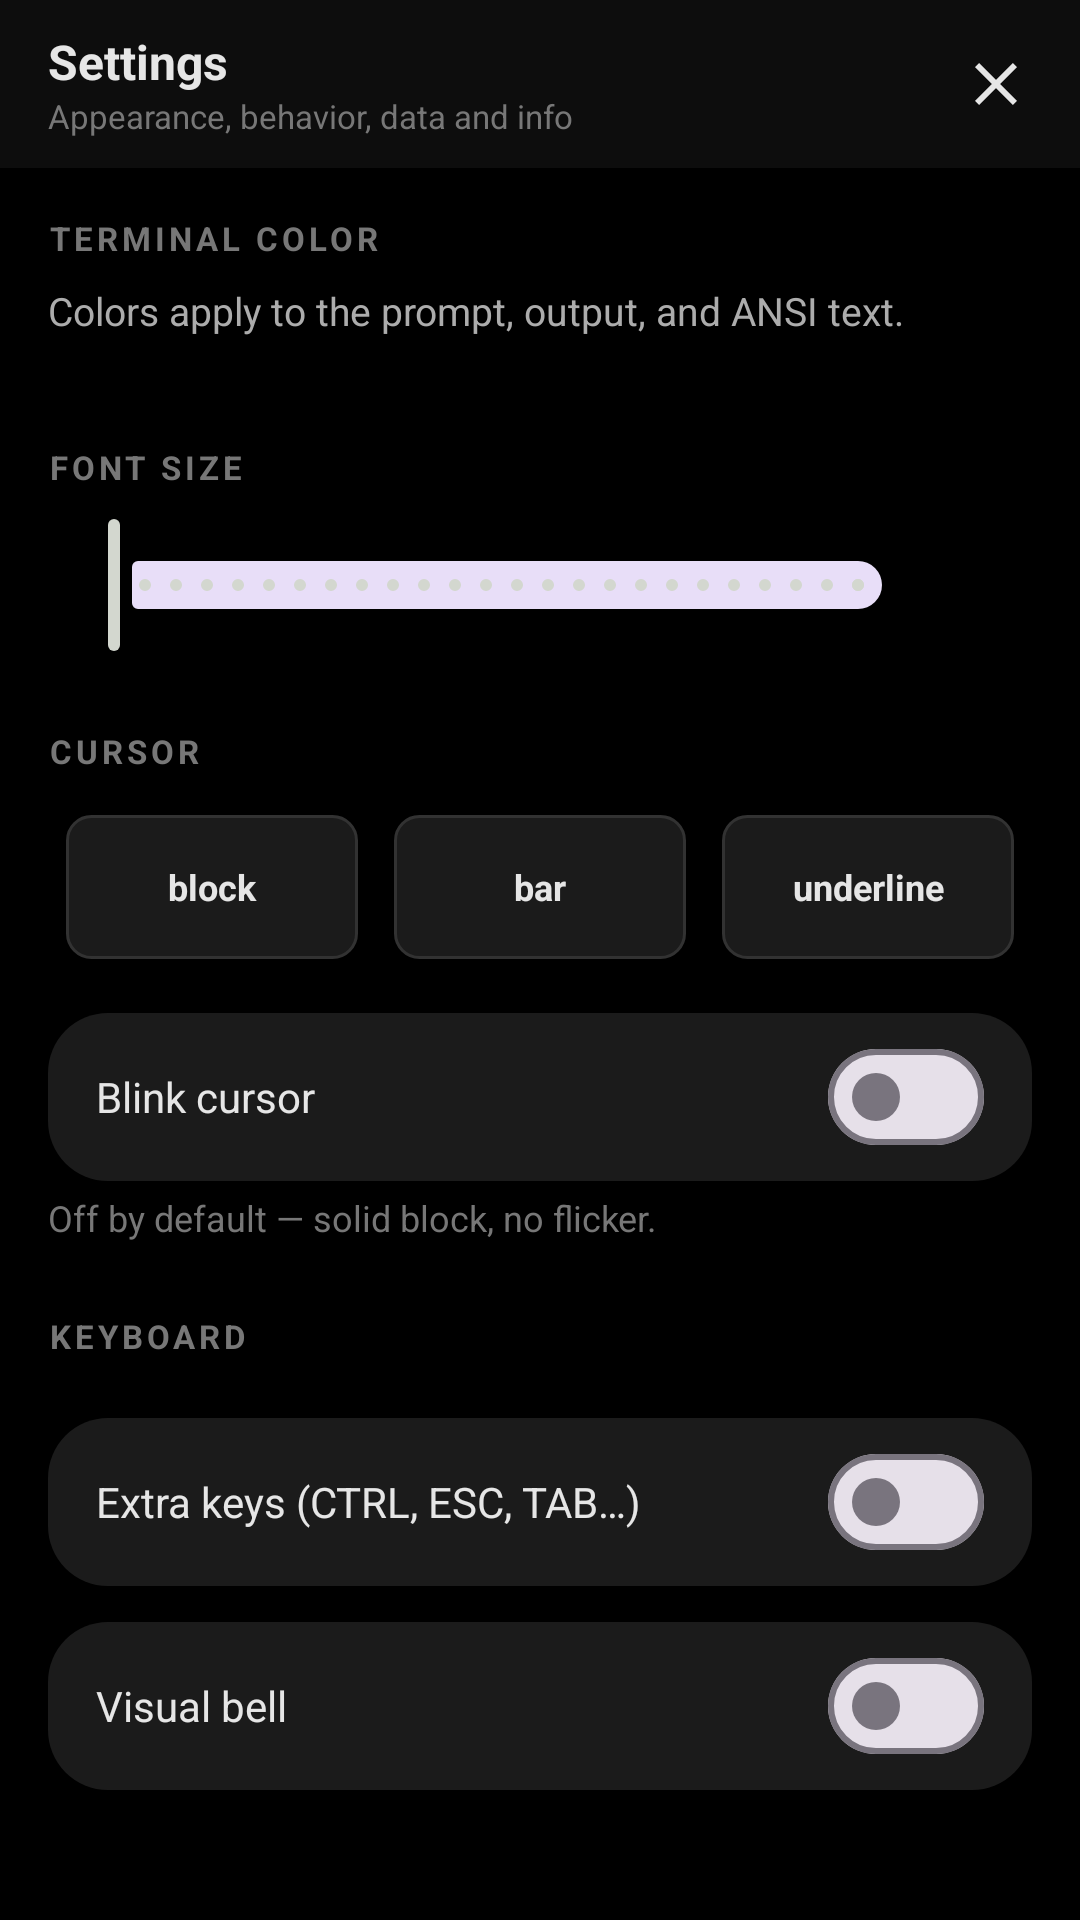

Where to tap for icons on this 1080x1920 app screen, as [x,y]:
Close: [996,84]
